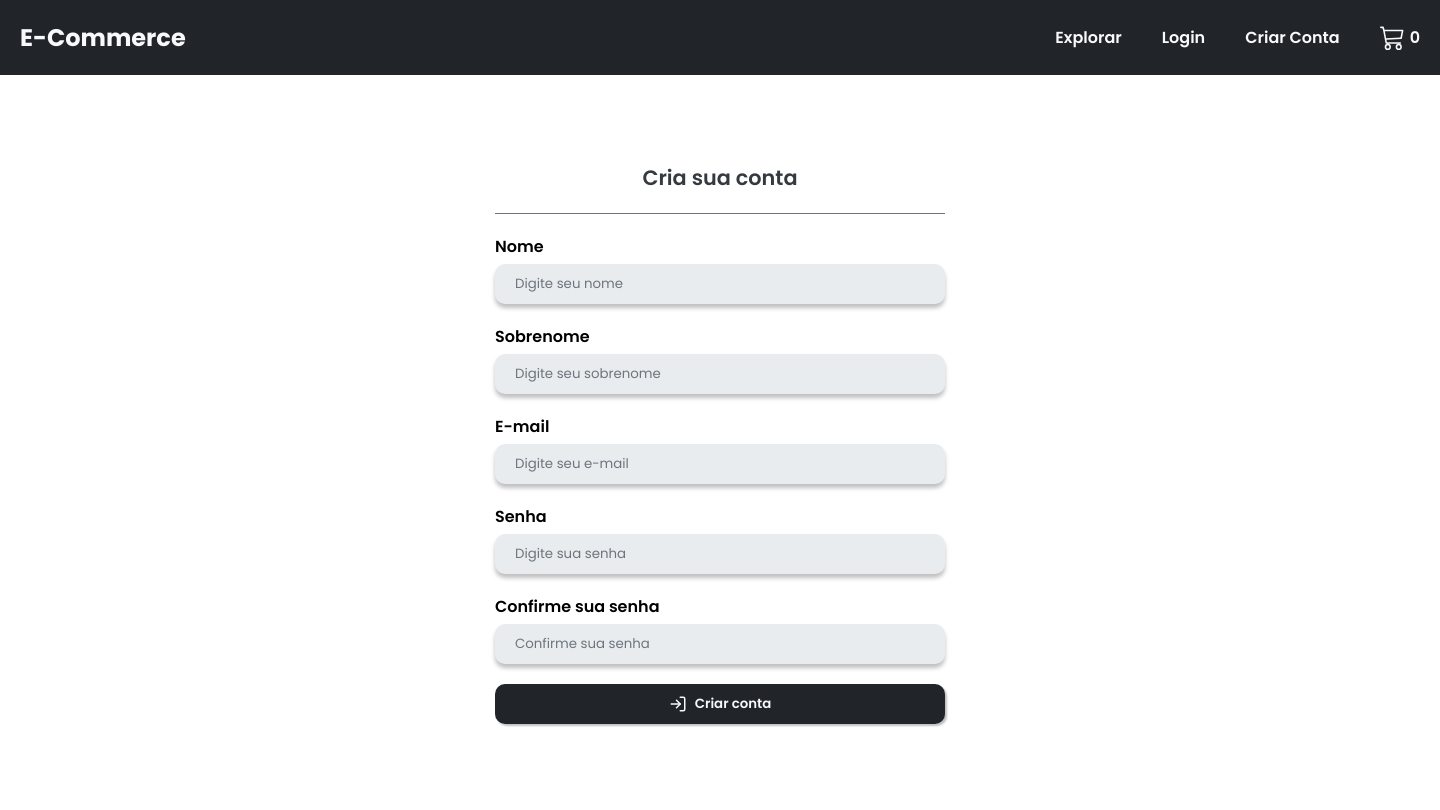
Test case: Sign Up › should show error when trying to submit without filling all required fields
The image size is (1440, 810).
Click the button "Criar conta" at (720, 704), box [495, 684, 945, 724]
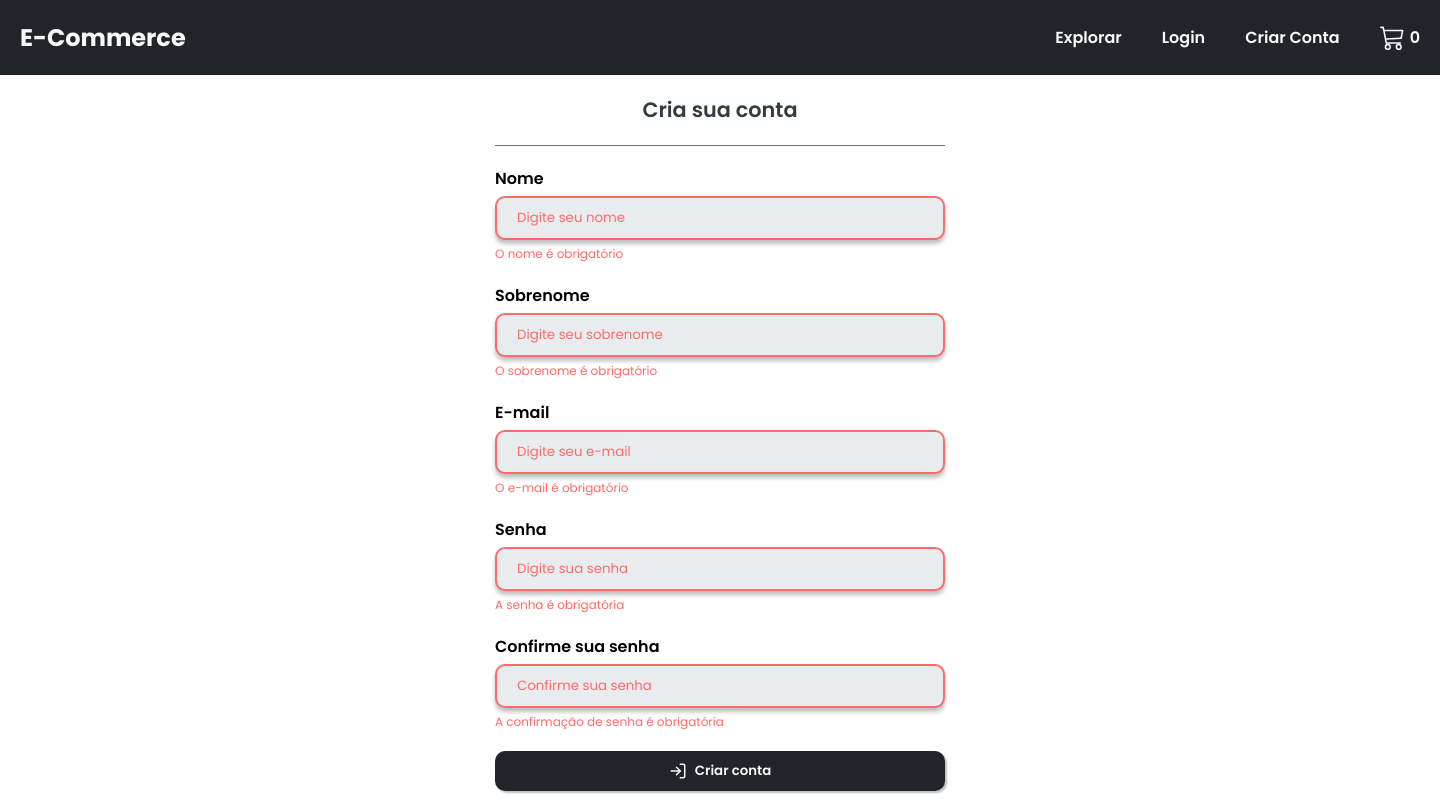
Check: the text "O nome é obrigatório" is shown, box [495, 245, 623, 262]
Check: the text "O sobrenome é obrigatório" is shown, box [495, 362, 657, 379]
Check: the text "O e-mail é obrigatório" is shown, box [495, 479, 628, 496]
